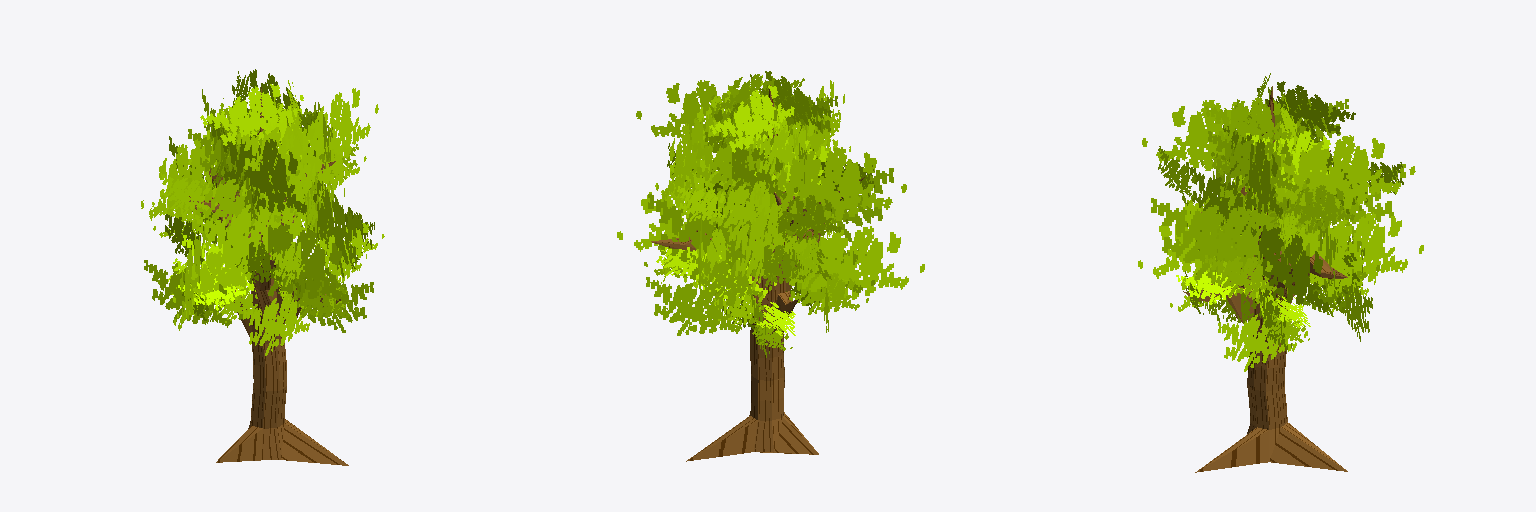
3 renders of one model, left to right at view 1: azimuth 30°, elevation 25°; view 2: azimuth 150°, elevation 25°; view 3: azimuth 270°, elevation 25°, orthographic.
Visible parts, largest first — view 1: Plane.024_Plane.058, Cube, Plane.023_Plane.036, Plane.022_Plane.057, Plane.013_Plane.023, Plane.020_Plane.031, Plane.005_Plane.016, Plane_Plane.011, Plane.001_Plane.012, Plane.017_Plane.027, Plane.002_Plane.013, Plane.008_Plane.018 (+5 smaller); view 2: Plane.022_Plane.057, Plane.024_Plane.058, Cube, Plane.023_Plane.036, Plane.020_Plane.031, Plane.005_Plane.016, Plane.013_Plane.023, Plane.014_Plane.024; view 3: Plane.023_Plane.036, Plane.024_Plane.058, Cube, Plane.022_Plane.057, Plane.014_Plane.024, Plane.020_Plane.031, Plane.011_Plane.021.
Part boxes in pixels (left/top/right/bottom): Plane.024_Plane.058: left=153, top=71, right=363, bottom=321; Cube: left=189, top=87, right=348, bottom=465; Plane.023_Plane.036: left=203, top=69, right=384, bottom=355; Plane.022_Plane.057: left=141, top=102, right=373, bottom=332; Plane.013_Plane.023: left=199, top=198, right=312, bottom=285; Plane.020_Plane.031: left=284, top=88, right=378, bottom=179; Plane.005_Plane.016: left=200, top=84, right=303, bottom=145; Plane_Plane.011: left=237, top=123, right=329, bottom=177; Plane.001_Plane.012: left=188, top=178, right=293, bottom=229; Plane.017_Plane.027: left=144, top=260, right=242, bottom=327; Plane.002_Plane.013: left=287, top=146, right=366, bottom=200; Plane.008_Plane.018: left=159, top=173, right=217, bottom=210; Plane.022_Plane.057: left=648, top=104, right=924, bottom=357; Plane.024_Plane.058: left=646, top=80, right=868, bottom=335; Cube: left=651, top=85, right=864, bottom=461; Plane.023_Plane.036: left=644, top=74, right=866, bottom=304; Plane.020_Plane.031: left=636, top=80, right=793, bottom=147; Plane.005_Plane.016: left=750, top=71, right=831, bottom=129; Plane.013_Plane.023: left=749, top=168, right=893, bottom=241; Plane.014_Plane.024: left=617, top=186, right=749, bottom=251; Plane.023_Plane.036: left=1151, top=97, right=1423, bottom=351; Plane.024_Plane.058: left=1138, top=81, right=1405, bottom=341; Cube: left=1183, top=86, right=1347, bottom=472; Plane.022_Plane.057: left=1218, top=87, right=1376, bottom=371; Plane.014_Plane.024: left=1240, top=221, right=1340, bottom=312; Plane.020_Plane.031: left=1223, top=125, right=1288, bottom=218; Plane.011_Plane.021: left=1176, top=271, right=1245, bottom=304.
Bounding box in the file's own units: 13.02 × 18.16 × 12.28.
2 materials, 2 textured.